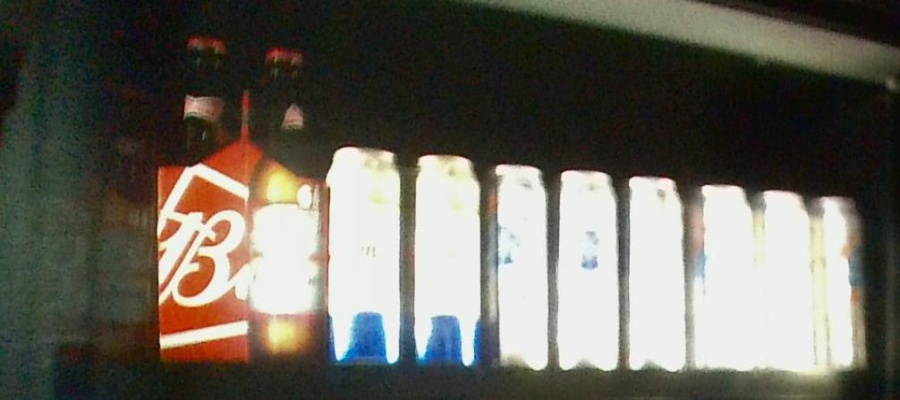bottle: (158, 32, 329, 367), (488, 161, 687, 372), (27, 80, 157, 360), (690, 181, 870, 373), (330, 144, 484, 367)
